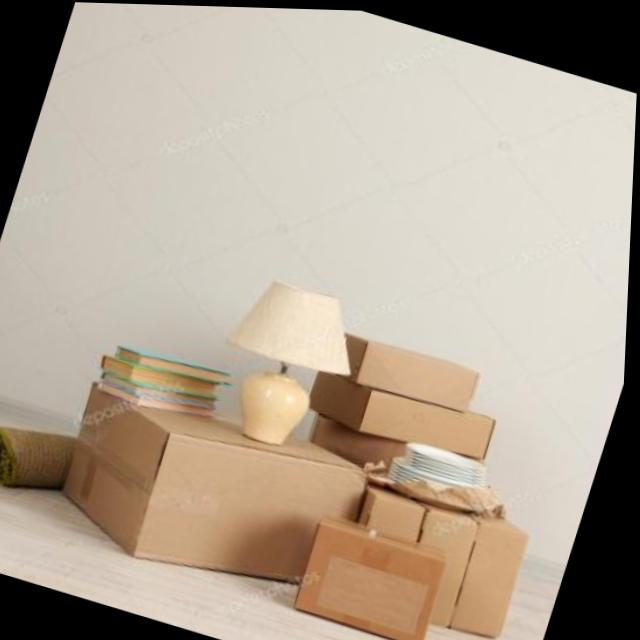box: (36, 356, 412, 634), (332, 459, 563, 640), (301, 360, 541, 479), (326, 309, 505, 424), (345, 298, 369, 333)
